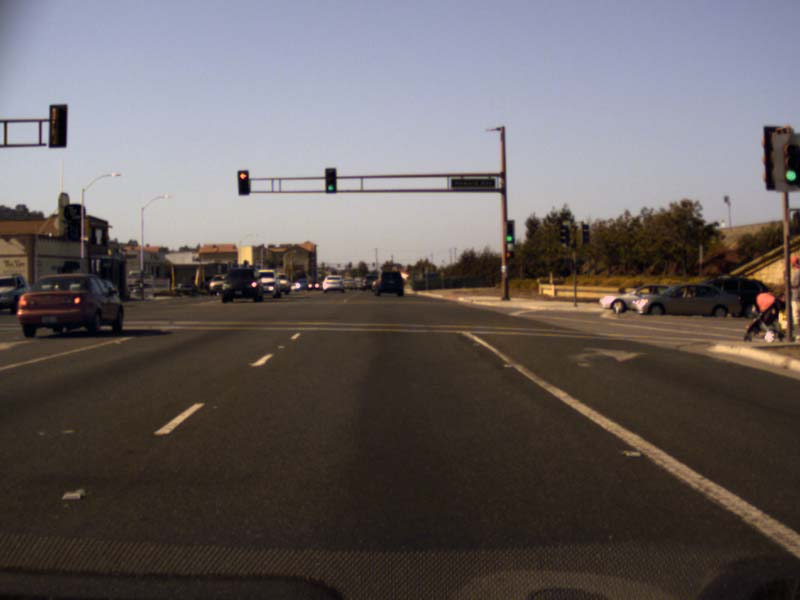Green: (325, 168, 335, 192), (506, 222, 514, 241)
Red: (237, 170, 247, 194), (505, 249, 514, 260)
